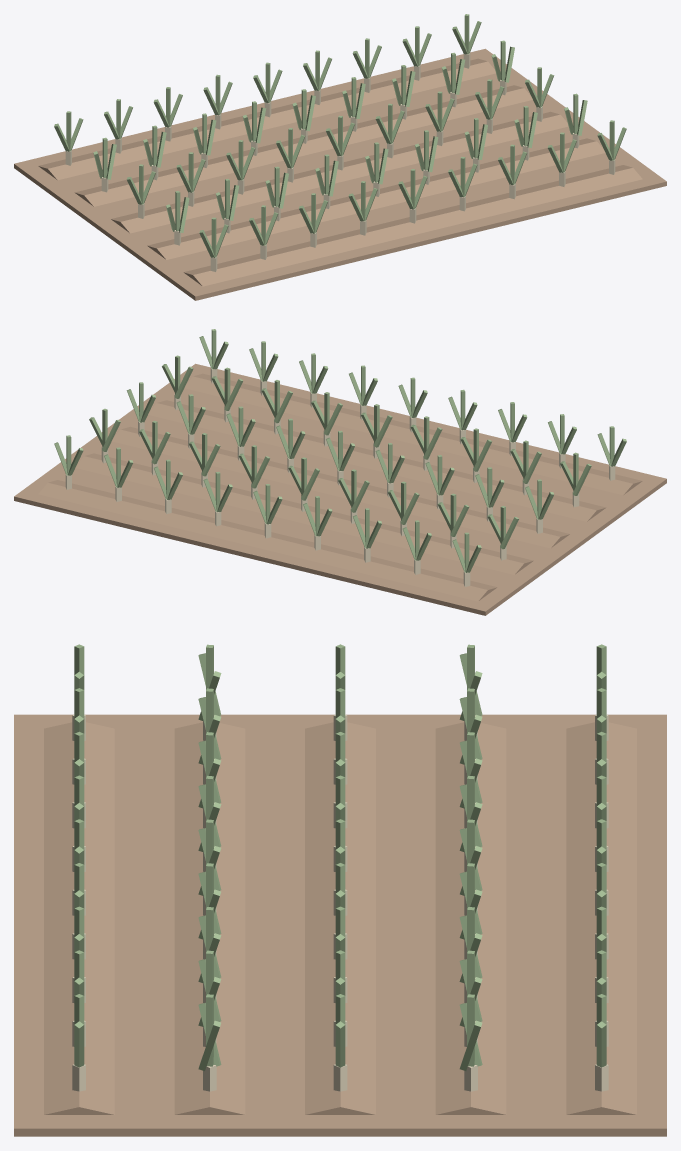
File: field-leeks.glb
The picture shows the model from 3 angles, top to bottom: view 1: azimuth 30°, elevation 25°; view 2: azimuth 150°, elevation 25°; view 3: azimuth 270°, elevation 25°; orthographic projection. The views are drawn at different scales.
Parts seen in each view (by area): view 1: field-leeks_soil, field-leeks_leaf, field-leeks_stalk; view 2: field-leeks_soil, field-leeks_leaf, field-leeks_stalk; view 3: field-leeks_soil, field-leeks_leaf, field-leeks_stalk.
Boxes of the visible parts, <box> form: field-leeks_soil: <box>14,48,666,300</box>; field-leeks_leaf: <box>54,14,626,257</box>; field-leeks_stalk: <box>65,53,615,271</box>; field-leeks_soil: <box>14,363,666,615</box>; field-leeks_leaf: <box>54,329,626,572</box>; field-leeks_stalk: <box>65,368,615,586</box>; field-leeks_soil: <box>14,714,666,1136</box>; field-leeks_leaf: <box>74,644,606,1071</box>; field-leeks_stalk: <box>72,714,608,1091</box>.
Bounding box in the file's own units: 3 × 0.3667 × 2.
